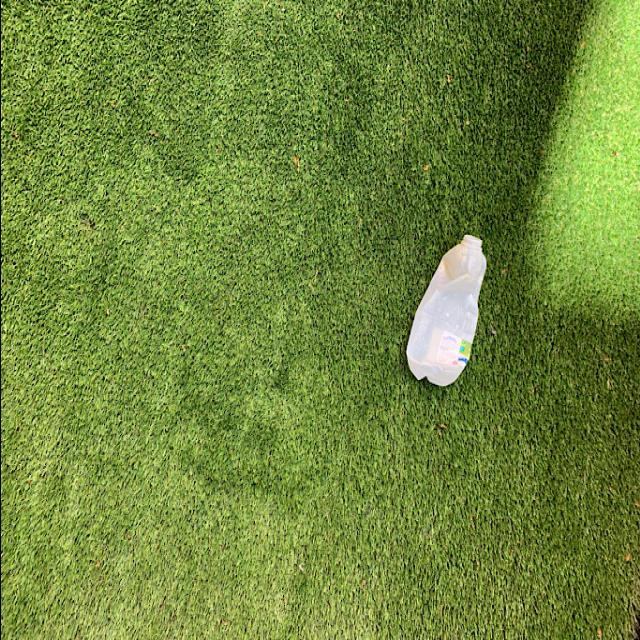HDPEM: (402, 230, 489, 386)
